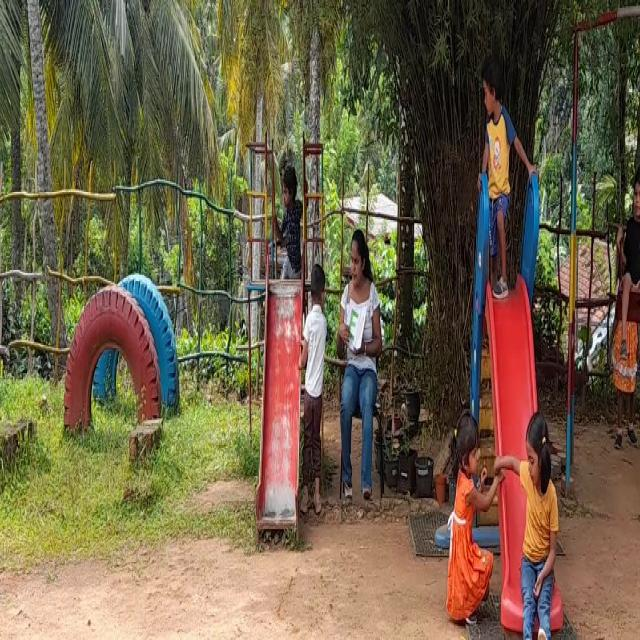adult: (336, 197, 389, 501)
child: (473, 63, 520, 305), (512, 390, 557, 640), (443, 405, 486, 617), (605, 142, 640, 359), (303, 255, 328, 516)
